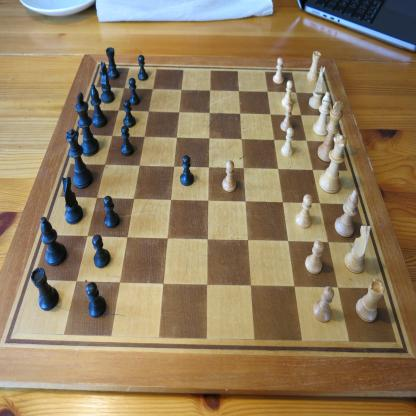black-bishop: (40, 216, 67, 266), (90, 84, 107, 128)
black-king: (75, 92, 99, 157)
black-knight: (62, 176, 83, 225), (99, 61, 115, 104)
black-pawn: (85, 282, 107, 318), (92, 233, 111, 268), (103, 195, 120, 229), (180, 154, 194, 187), (121, 125, 134, 157), (123, 99, 136, 128), (128, 77, 140, 106), (138, 54, 148, 82)
black-queen: (65, 128, 93, 190)
black-rook: (30, 267, 59, 311), (105, 47, 120, 80)
white-bishop: (334, 189, 359, 238), (312, 92, 331, 136)
white-king: (317, 100, 344, 163)
white-knight: (344, 225, 371, 274), (308, 66, 326, 110)
white-pawn: (313, 286, 334, 322), (304, 240, 324, 275), (295, 194, 313, 229), (222, 160, 236, 192), (281, 127, 294, 157), (280, 103, 293, 132), (272, 57, 285, 84), (281, 80, 294, 107)
white-queen: (318, 133, 348, 194)
white-rook: (355, 278, 385, 323), (306, 50, 322, 82)
